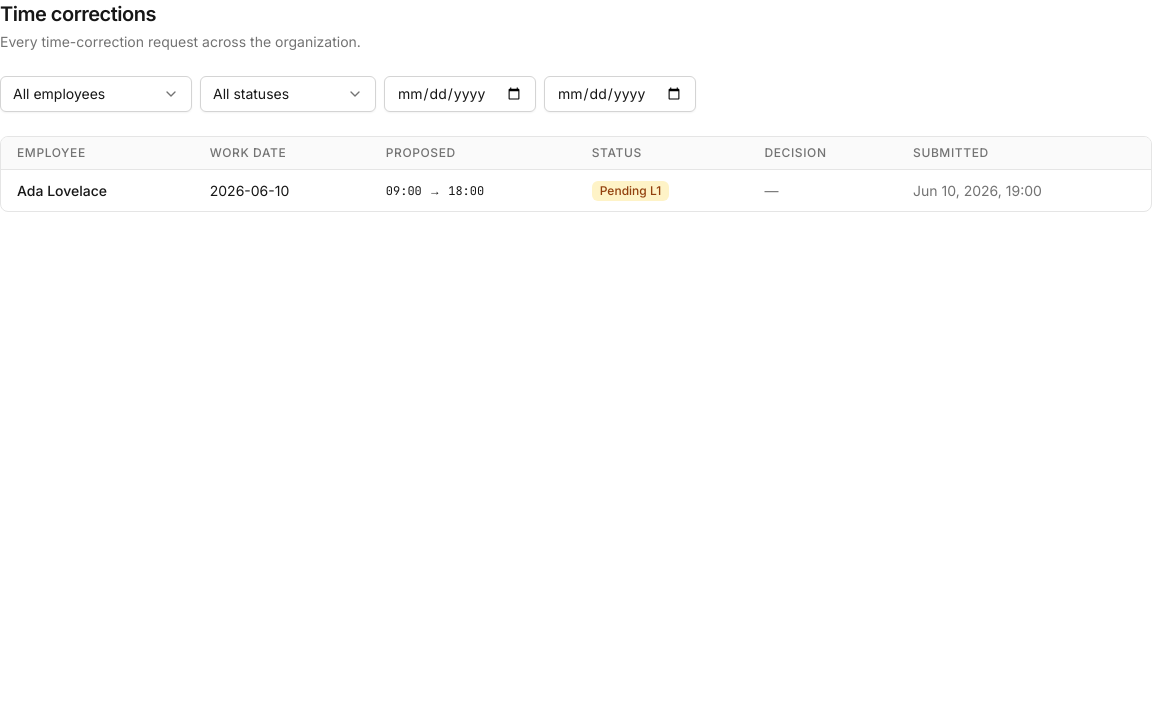
AdminTimeCorrectionsPage › opens the detail drawer when a row is clicked
The width and height of the screenshot is (1152, 720).
What coordinates should you click on to do the following:
click the text "Ada Lovelace"
I would click on:
 (97, 190)
Its box is [1,170,194,211].
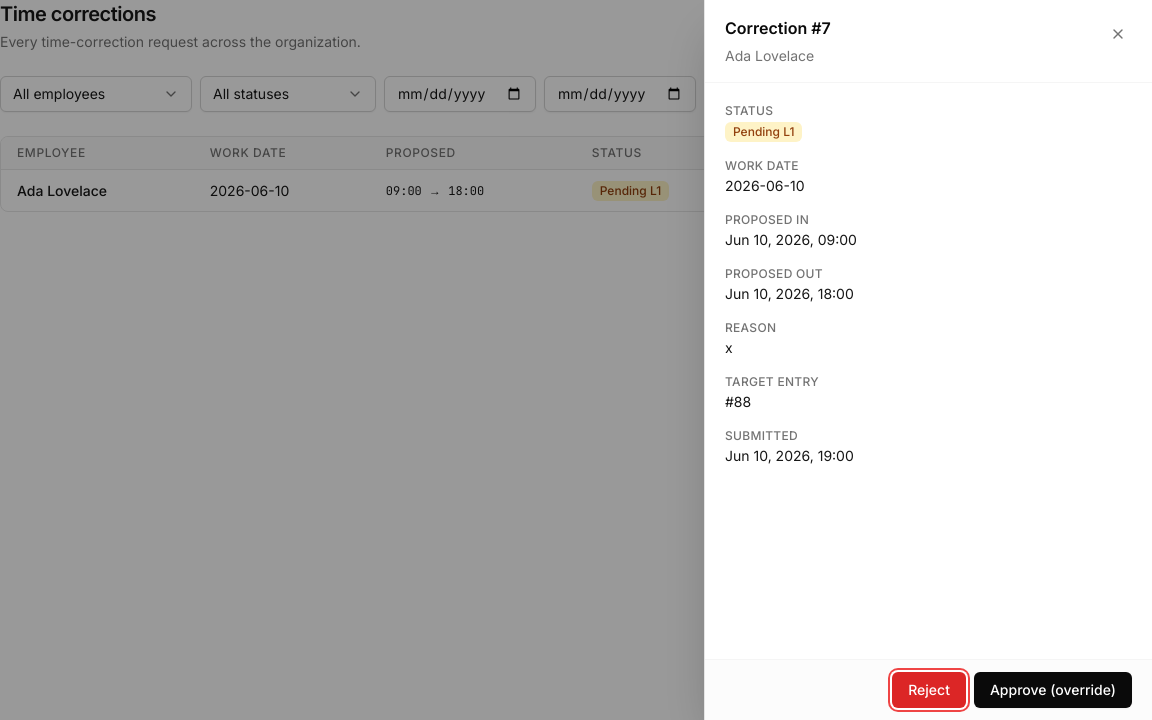
expect the heading "Correction #7" is shown: met, box [725,18,831,38]
